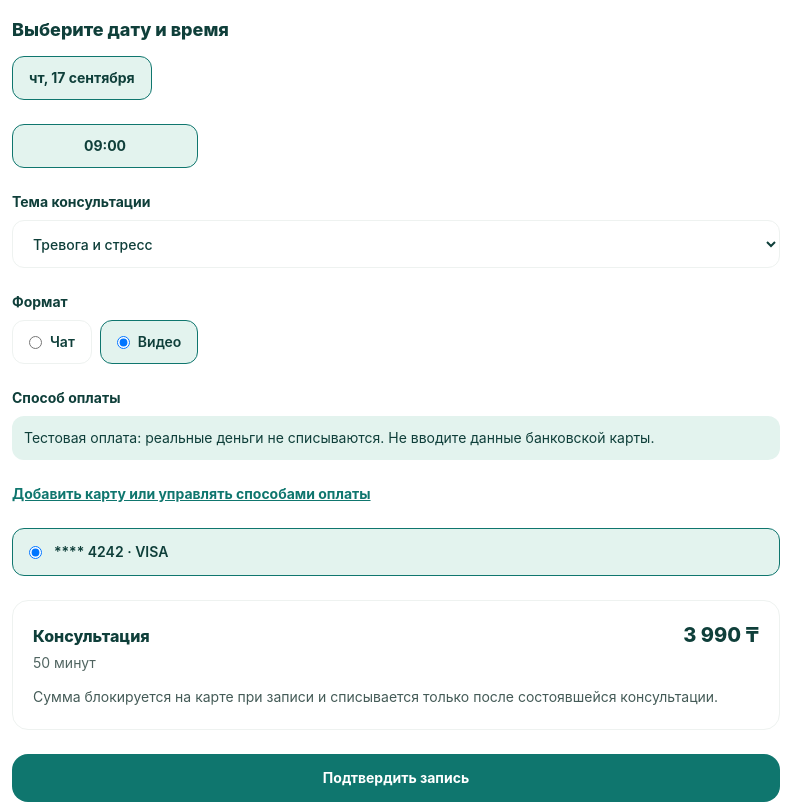
Test: BookingFlow › конфликт слота сохраняет контекст и обновляет доступность
(page scrolled)
Expected: the radio button labelled "09:00" is shown, [12,124,198,168]
Click the button "Подтвердить запись" at point(396, 778), box [12,754,780,801]
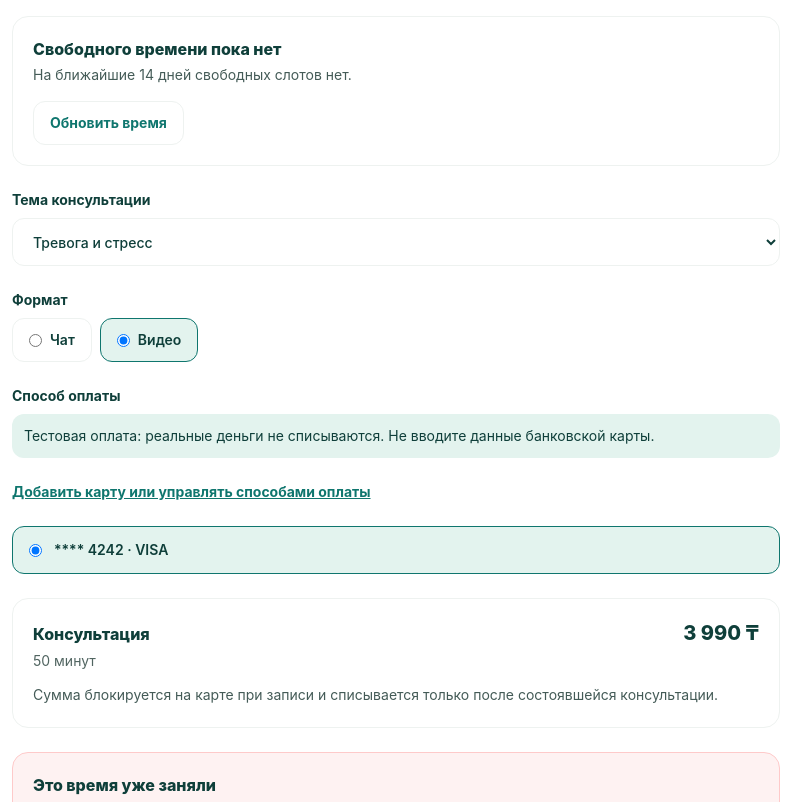
Expected: the text "На ближайшие 14 дней свободных слотов нет." is shown, [33,66,352,83]
